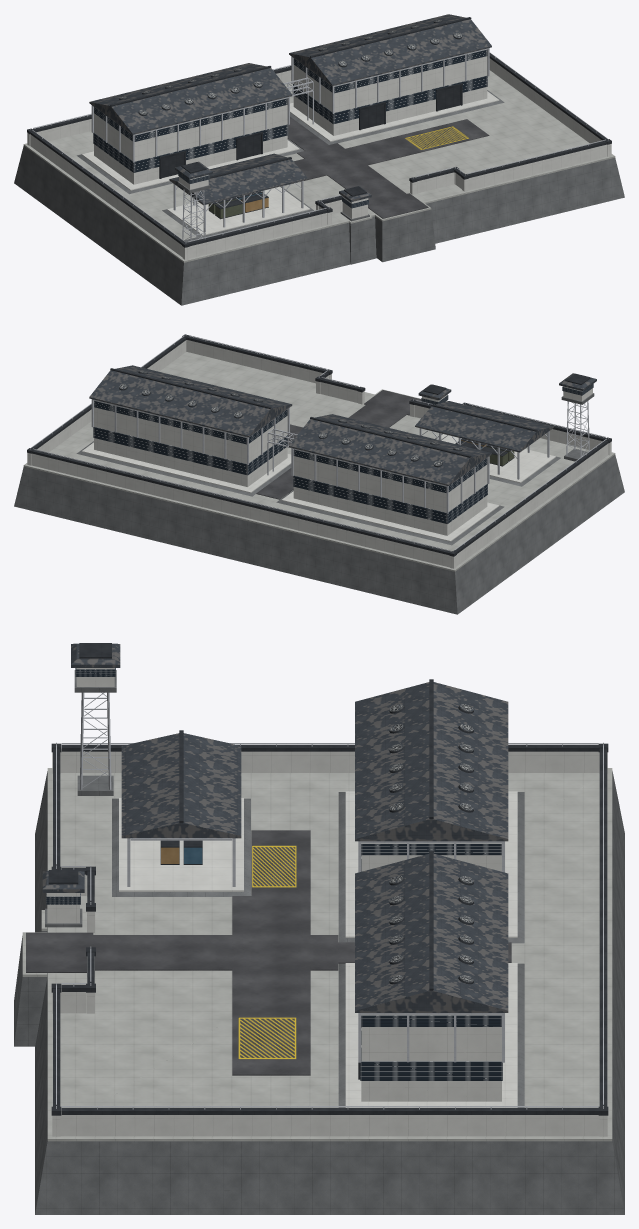
Rendered from barracks_lvl2.glb.
3 renders of one model, top to bottom at view 1: azimuth 30°, elevation 25°; view 2: azimuth 150°, elevation 25°; view 3: azimuth 270°, elevation 25°, orthographic. The views are drawn at different scales.
Visible parts, largest first — view 1: BRK_L2_ConcDark, BRK_L2_ConcLight, BRK_L2_RoofCorr, BRK_L2_ConcMid, BRK_L2_SteelDark, BRK_L2_Asphalt, BRK_L2_WindowDark, BRK_L2_SteelTruss, BRK_L2_DoorCorr, BRK_L2_HatchZone, BRK_L2_RoofVent; view 2: BRK_L2_ConcDark, BRK_L2_ConcLight, BRK_L2_RoofCorr, BRK_L2_ConcMid, BRK_L2_SteelDark, BRK_L2_WindowDark, BRK_L2_SteelTruss, BRK_L2_Asphalt, BRK_L2_RoofVent; view 3: BRK_L2_ConcMid, BRK_L2_ConcDark, BRK_L2_RoofCorr, BRK_L2_ConcLight, BRK_L2_Asphalt, BRK_L2_SteelDark, BRK_L2_WindowDark, BRK_L2_SteelTruss, BRK_L2_HatchZone, BRK_L2_RoofVent.
Part boxes in pixels (x1,y1,x2,y2): BRK_L2_ConcDark: [14, 90, 624, 305]; BRK_L2_ConcLight: [27, 49, 611, 259]; BRK_L2_RoofCorr: [89, 14, 491, 205]; BRK_L2_ConcMid: [23, 70, 615, 262]; BRK_L2_SteelDark: [27, 17, 611, 247]; BRK_L2_Asphalt: [285, 117, 489, 218]; BRK_L2_WindowDark: [93, 49, 487, 208]; BRK_L2_SteelTruss: [30, 48, 608, 243]; BRK_L2_DoorCorr: [161, 86, 460, 177]; BRK_L2_HatchZone: [404, 126, 469, 150]; BRK_L2_RoofVent: [119, 20, 461, 114]; BRK_L2_ConcDark: [14, 393, 624, 614]; BRK_L2_ConcLight: [27, 340, 611, 568]; BRK_L2_RoofCorr: [89, 365, 596, 485]; BRK_L2_ConcMid: [23, 352, 615, 571]; BRK_L2_SteelDark: [27, 334, 611, 556]; BRK_L2_WindowDark: [93, 384, 593, 523]; BRK_L2_SteelTruss: [30, 334, 608, 552]; BRK_L2_Asphalt: [256, 390, 421, 499]; BRK_L2_RoofVent: [119, 371, 461, 466]; BRK_L2_ConcMid: [22, 768, 612, 1141]; BRK_L2_ConcDark: [14, 670, 624, 1214]; BRK_L2_RoofCorr: [42, 643, 508, 1012]; BRK_L2_ConcLight: [46, 668, 607, 1136]; BRK_L2_Asphalt: [26, 830, 511, 1075]; BRK_L2_SteelDark: [48, 643, 608, 1115]; BRK_L2_WindowDark: [46, 668, 502, 1080]; BRK_L2_SteelTruss: [56, 692, 603, 1109]; BRK_L2_HatchZone: [238, 845, 297, 1059]; BRK_L2_RoofVent: [389, 704, 473, 982].
Size of the model in its own units: 116 by 29.54 by 78.2.
Materials: 14 (14 with a texture image).
